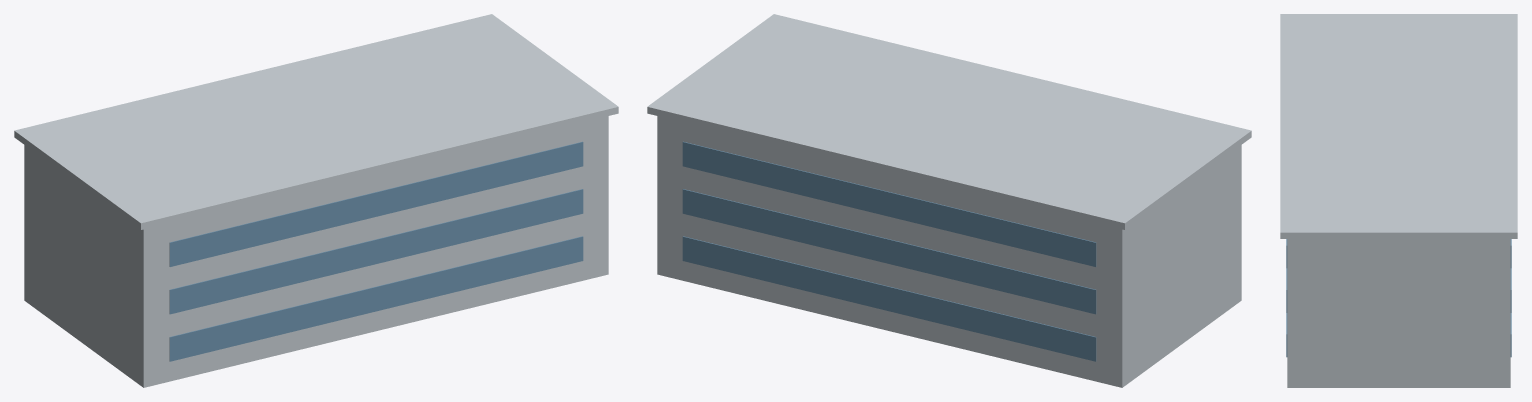
Rendered from teaching-block.glb.
The picture shows the model from 3 angles, left to right: view 1: azimuth 30°, elevation 25°; view 2: azimuth 150°, elevation 25°; view 3: azimuth 270°, elevation 25°; orthographic projection. The views are drawn at different scales.
Visible parts, largest first — view 1: Roof cap, Main block, Window strip 8.03 floor 0, Window strip 8.03 floor 1, Window strip 8.03 floor 2; view 2: Roof cap, Main block, Window strip -8.03 floor 0, Window strip -8.03 floor 1, Window strip -8.03 floor 2; view 3: Roof cap, Main block.
Boxes of the visible parts, x1,y1,x2,y2 form: Roof cap: (14, 14, 618, 229); Main block: (24, 116, 608, 387); Window strip 8.03 floor 0: (169, 236, 583, 361); Window strip 8.03 floor 1: (169, 189, 583, 314); Window strip 8.03 floor 2: (169, 141, 583, 266); Roof cap: (647, 14, 1251, 229); Main block: (657, 116, 1241, 387); Window strip -8.03 floor 0: (682, 236, 1096, 361); Window strip -8.03 floor 1: (682, 189, 1096, 314); Window strip -8.03 floor 2: (682, 141, 1096, 266); Roof cap: (1280, 14, 1517, 238); Main block: (1287, 239, 1510, 387).
Size of the model in its own units: 37 by 12.5 by 17.
